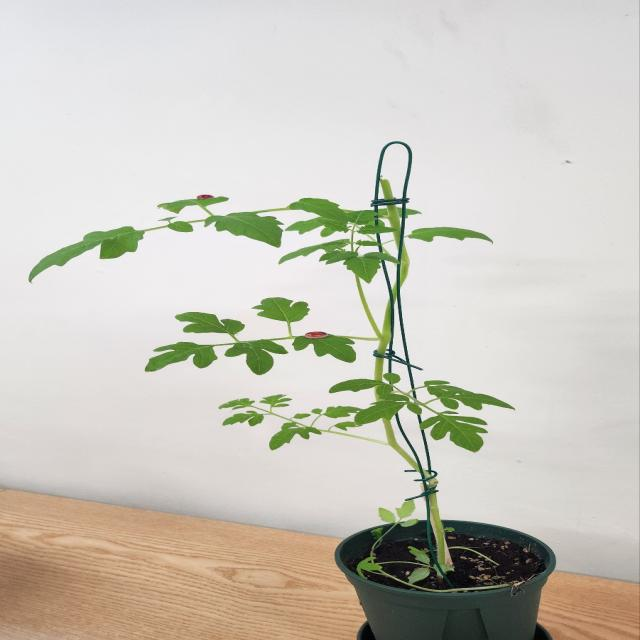bug: (284, 327, 356, 353), (178, 188, 230, 214)
